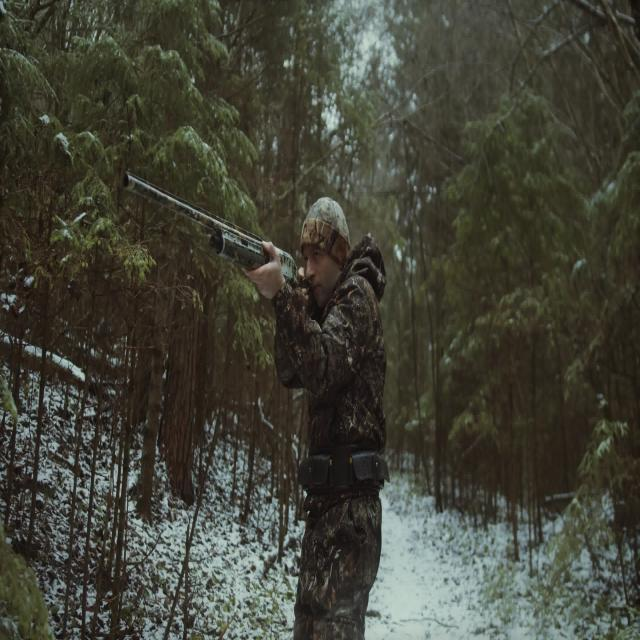poacher: (254, 183, 398, 638)
weapon: (124, 173, 289, 269)
